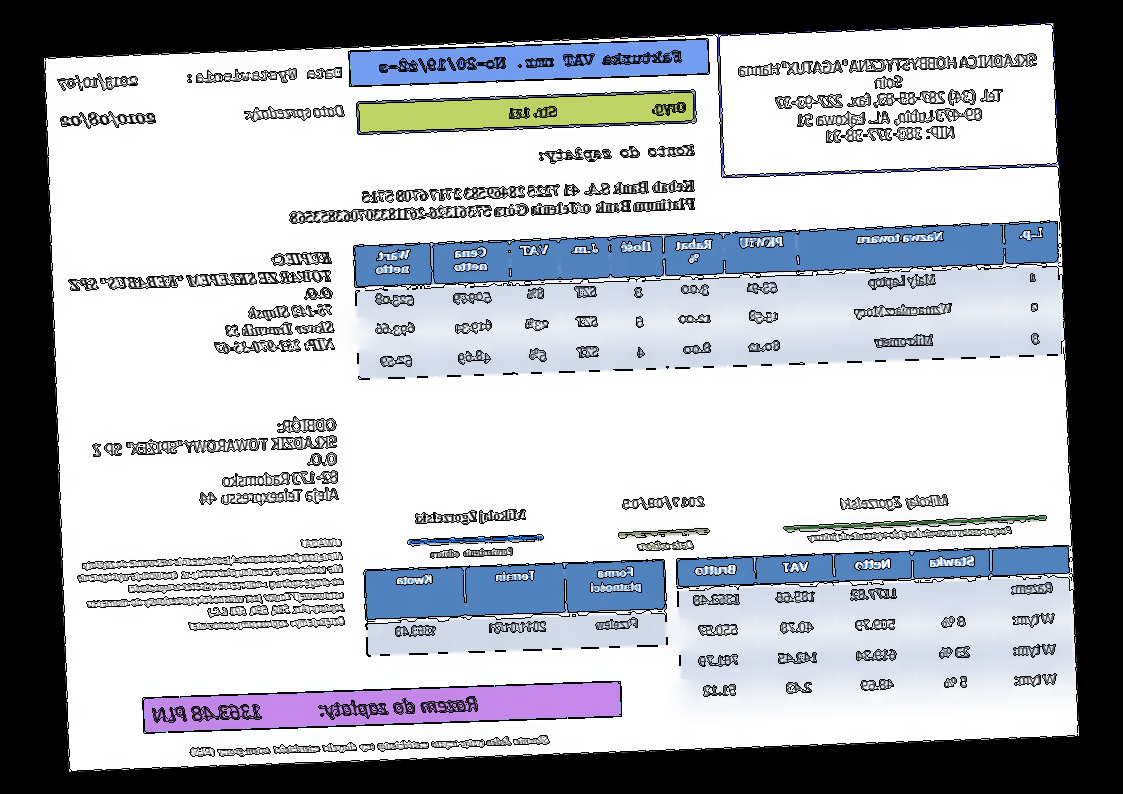Table: (352, 220, 1064, 382), (674, 544, 1077, 710), (363, 557, 670, 659)
TextBox: (61, 247, 338, 364), (736, 50, 1042, 151), (75, 536, 348, 638), (88, 412, 342, 515), (286, 176, 699, 226), (150, 692, 481, 728), (187, 731, 552, 760), (375, 46, 685, 77), (506, 97, 689, 124), (535, 140, 699, 166), (804, 523, 1014, 543), (186, 63, 345, 89), (413, 505, 530, 528), (58, 108, 159, 133), (836, 492, 950, 513), (243, 102, 347, 124), (621, 491, 708, 515), (56, 70, 141, 94), (429, 544, 517, 561), (634, 537, 696, 554)
